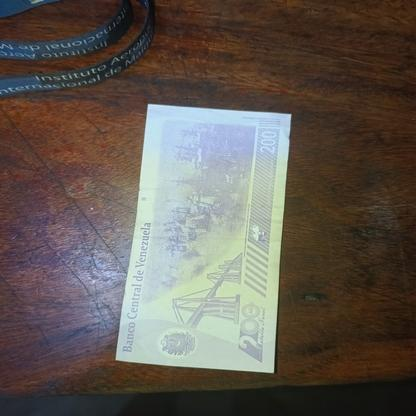two_hundred-back-vef: (114, 103, 292, 374)
